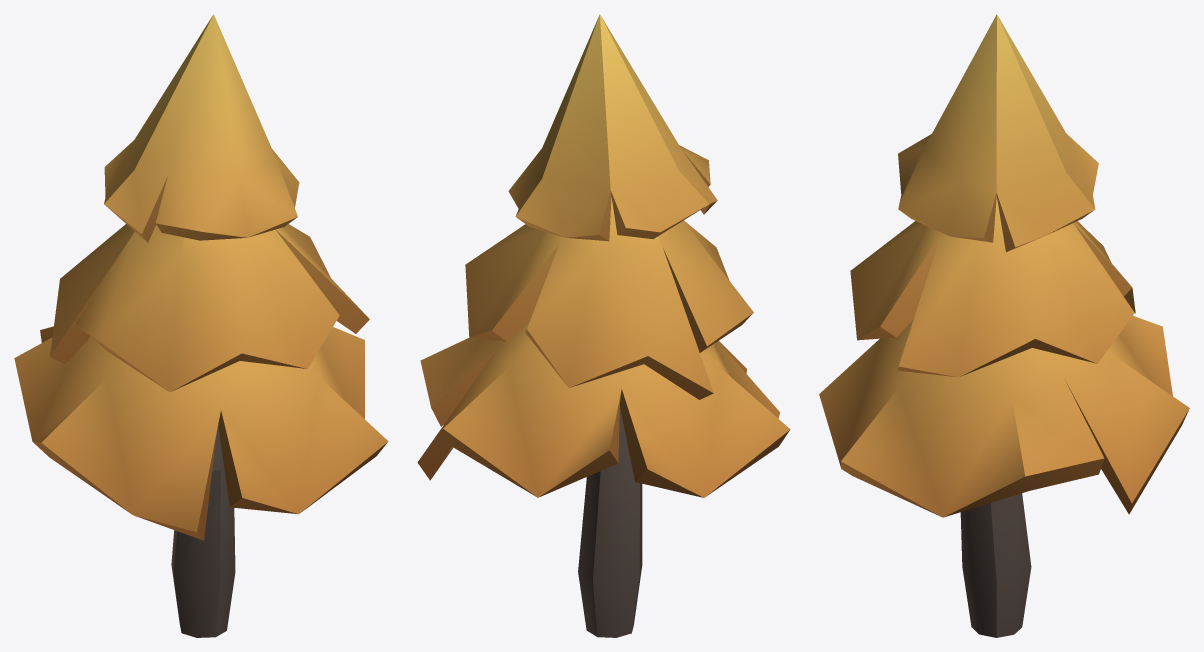
Rendered from tree_pine_yellow_small.glb.
3 renders of one model, left to right at view 1: azimuth 30°, elevation 25°; view 2: azimuth 150°, elevation 25°; view 3: azimuth 270°, elevation 25°, orthographic.
Visible parts, largest first — view 1: tree_pine_yellow_small; view 2: tree_pine_yellow_small; view 3: tree_pine_yellow_small.
Part boxes in pixels (bbox=[...]): tree_pine_yellow_small: bbox=[14, 14, 388, 637]; tree_pine_yellow_small: bbox=[417, 14, 790, 637]; tree_pine_yellow_small: bbox=[819, 14, 1189, 637].
Size of the model in its own units: 2.4 by 4.04 by 2.2.
1 material, 1 textured.
